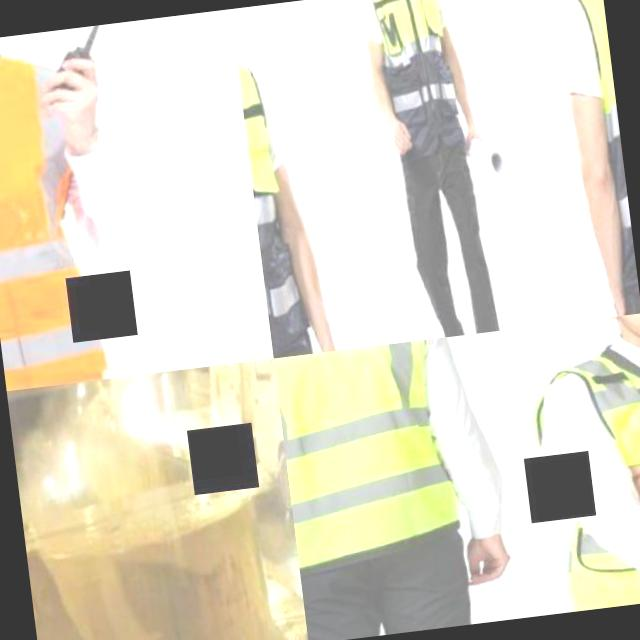vest: (0, 28, 127, 390), (274, 338, 468, 564), (549, 0, 640, 318), (235, 41, 323, 349), (549, 355, 640, 610), (366, 0, 483, 157)
